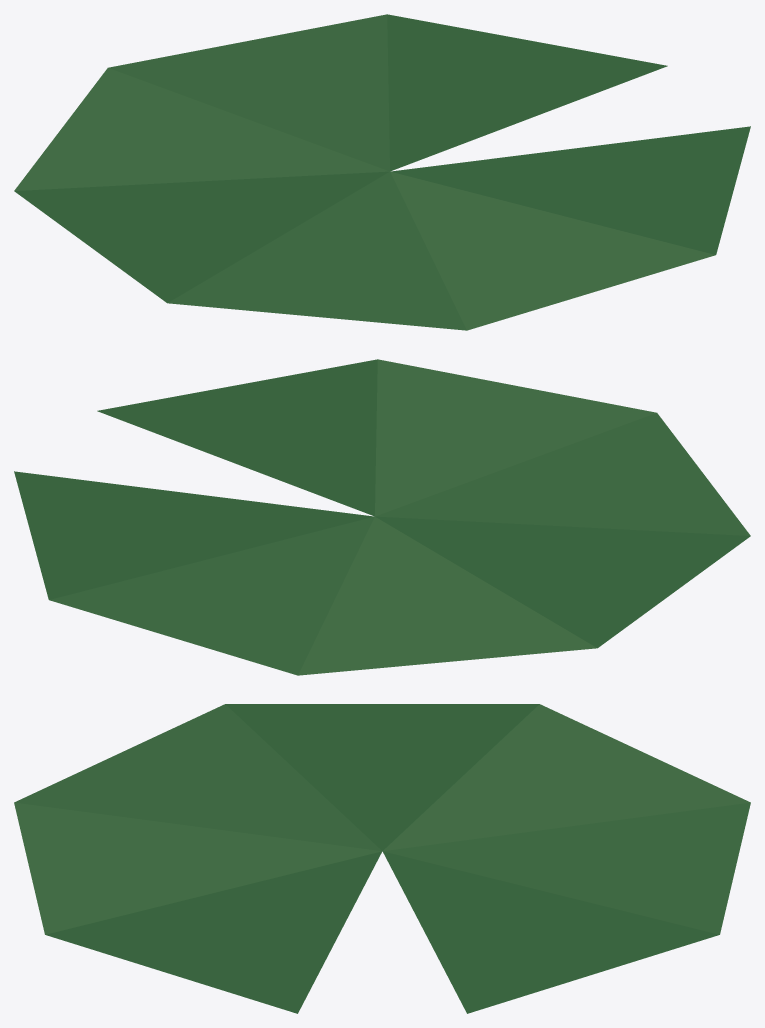
File: lilypad_pink_cluster_lod2.glb
3 renders of one model, top to bottom at view 1: azimuth 30°, elevation 25°; view 2: azimuth 150°, elevation 25°; view 3: azimuth 270°, elevation 25°, orthographic. The views are drawn at different scales.
Parts seen in each view (by area): view 1: lilypad_pink_cluster_lod2; view 2: lilypad_pink_cluster_lod2; view 3: lilypad_pink_cluster_lod2.
Part boxes in pixels (left/top/right/bottom): lilypad_pink_cluster_lod2: left=14, top=14, right=750, bottom=330; lilypad_pink_cluster_lod2: left=14, top=359, right=750, bottom=675; lilypad_pink_cluster_lod2: left=14, top=704, right=750, bottom=1013.
Size of the model in its own units: 1.25 by 0.005 by 1.25.
